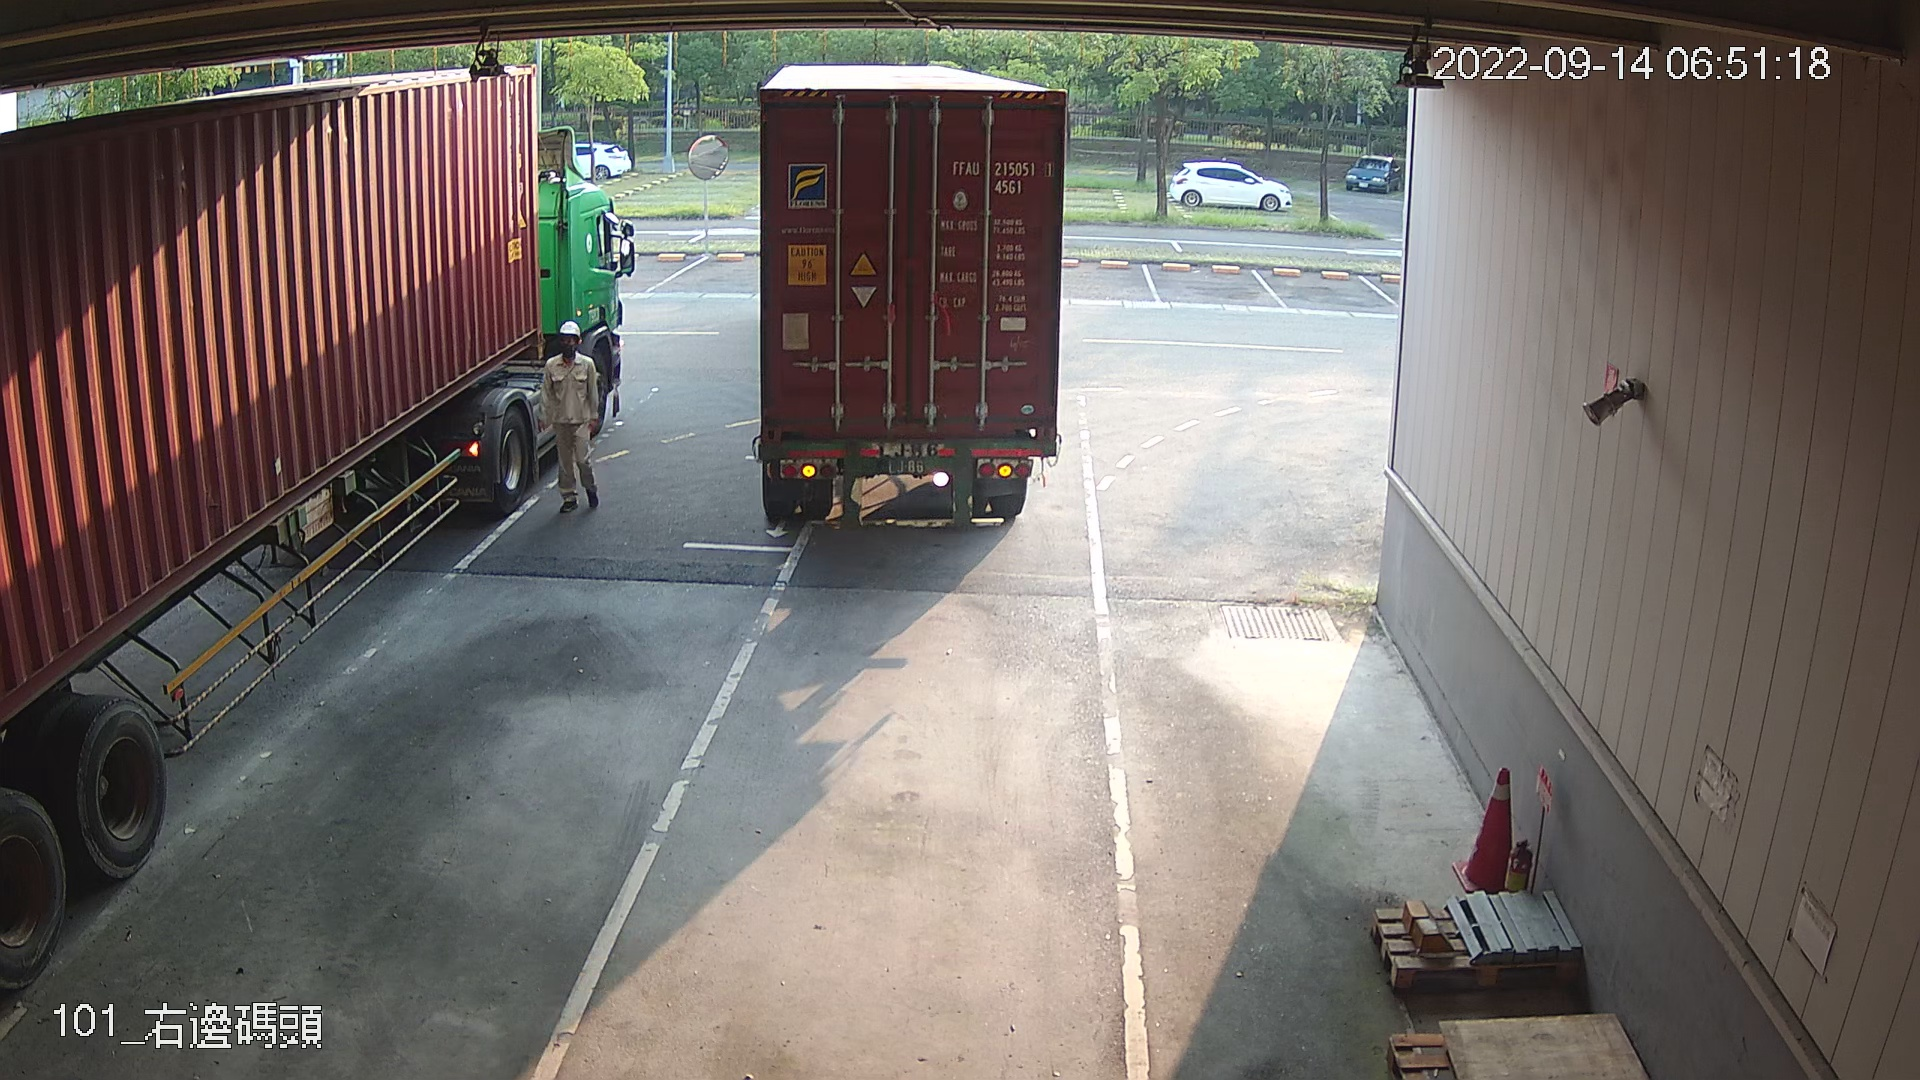container: (947, 154, 1058, 198)
